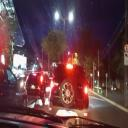NoEstacionar: (123, 42, 128, 52)
